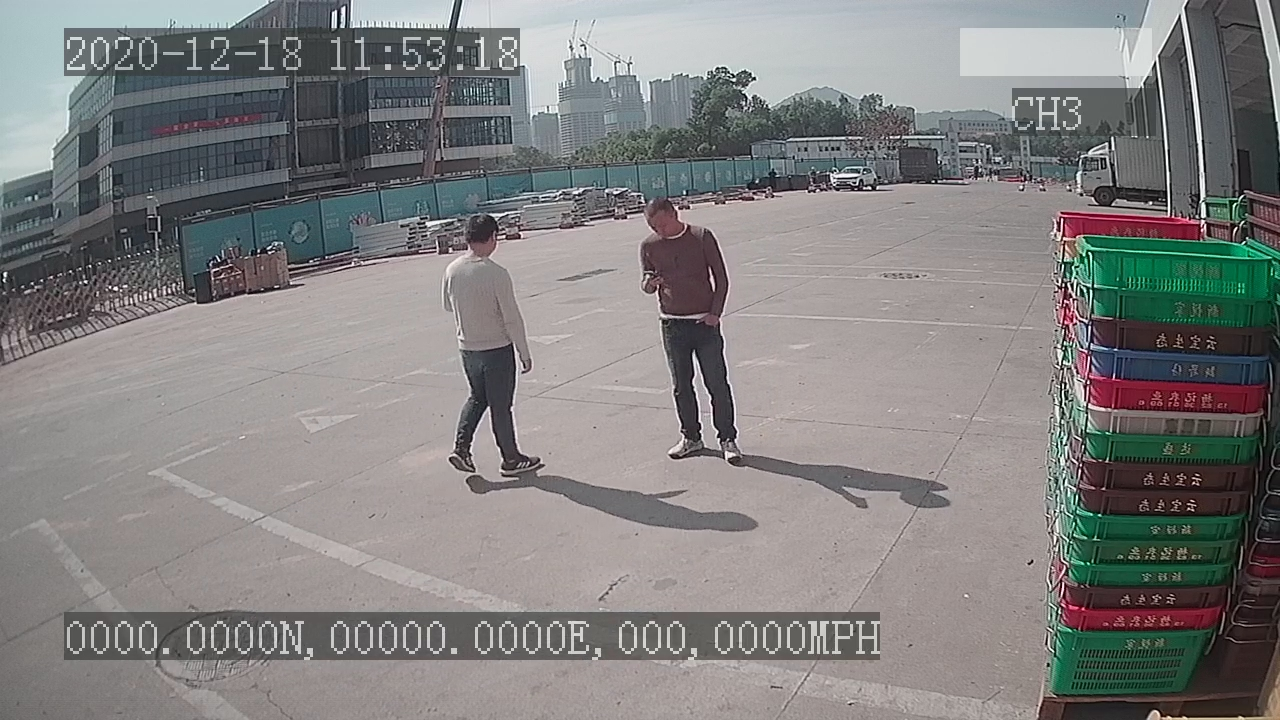person: (629, 194, 749, 474), (436, 208, 551, 486)
